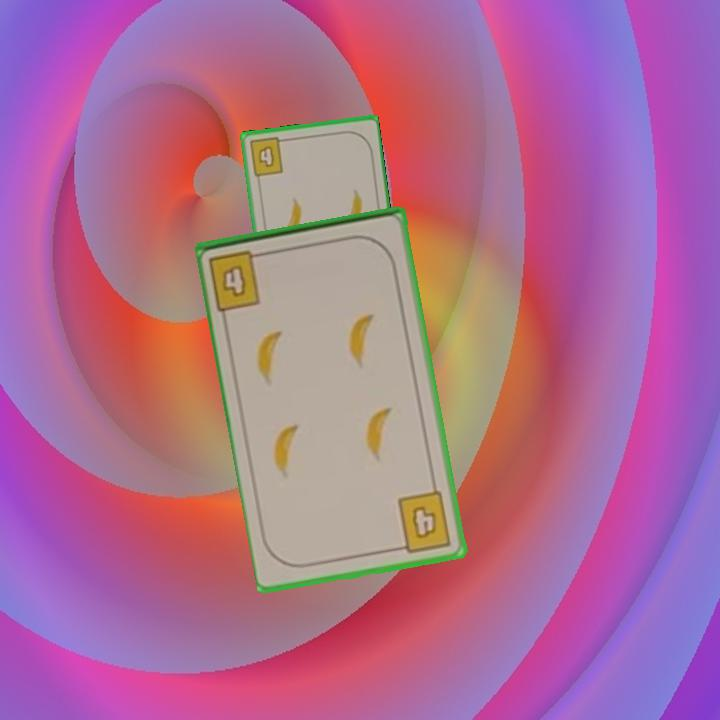4b: (205, 246, 271, 314), (392, 487, 455, 556), (245, 134, 289, 179)
